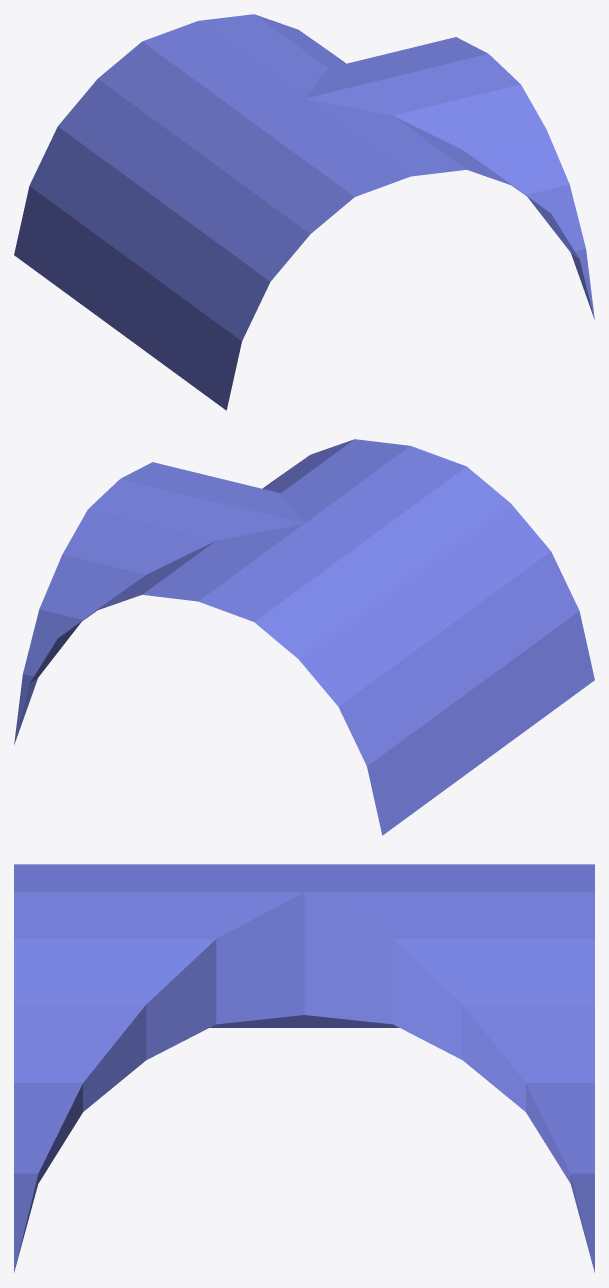
The model's file is Ceiling1x1_Left.fbx.
3 views of the same model, one above another, from view 1: azimuth 30°, elevation 25°; view 2: azimuth 150°, elevation 25°; view 3: azimuth 270°, elevation 25° (orthographic). The views are drawn at different scales.
Parts seen in each view (by area): view 1: Plane.043; view 2: Plane.043; view 3: Plane.043.
Part boxes in pixels (box(x1,y1,x2,y2)): Plane.043: box(14, 14, 594, 410); Plane.043: box(14, 439, 594, 835); Plane.043: box(14, 864, 594, 1272).
Size of the model in its own units: 200 by 98.25 by 200.
